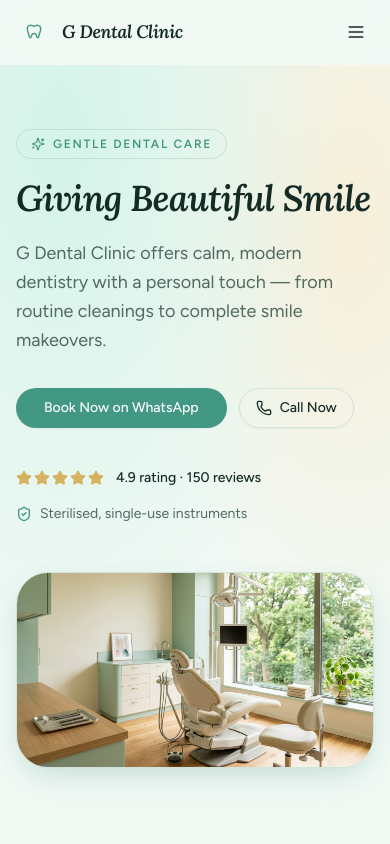
Test: clinic landing page › opens and closes the mobile menu and its links navigate to sections
The image size is (390, 844).
Click the button named "open menu" at (356, 32), box [338,14,374,50]
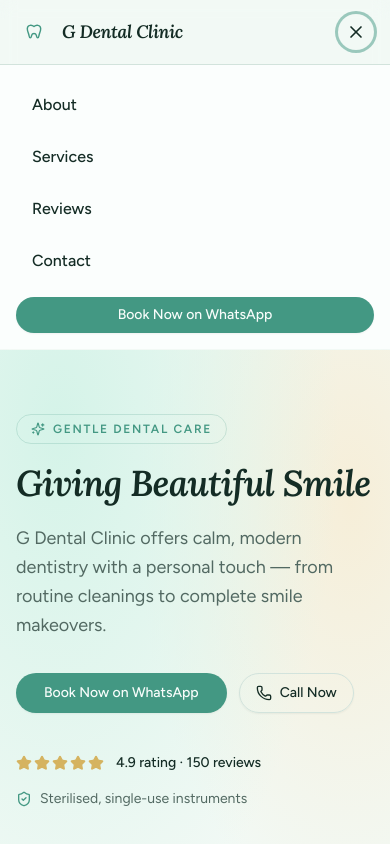
Result: the button named "open menu" is expanded at [338,14,374,50]
Click the link "Services" at (63, 156), box [32,147,93,166]
(page scrolled)
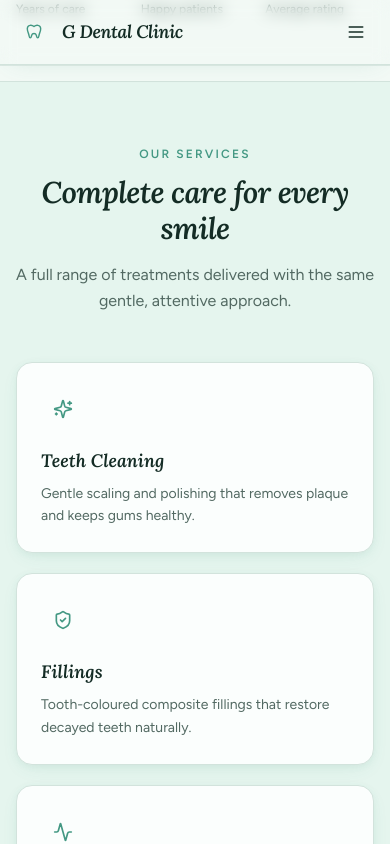
Result: the button named "open menu" is collapsed at [338,14,374,50]
